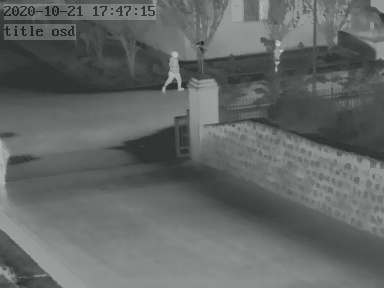person: (166, 50, 181, 88), (271, 30, 283, 70)
